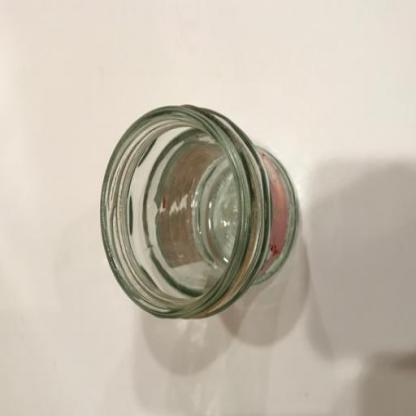trash: (99, 103, 300, 325)
